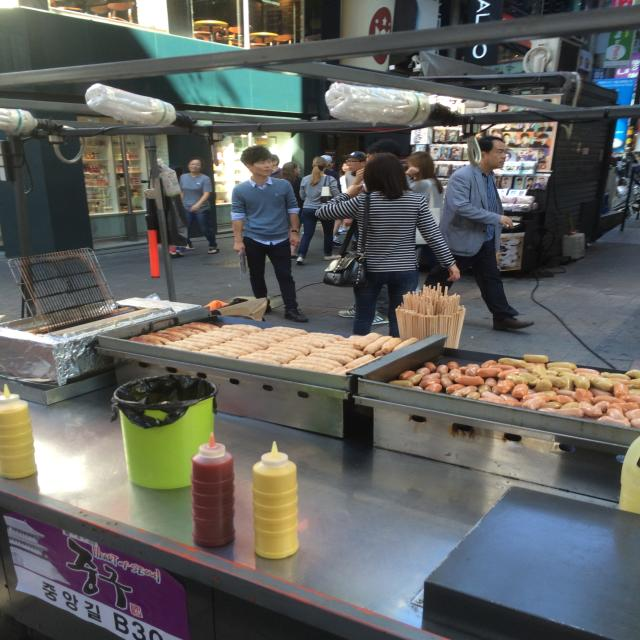body: (312, 151, 463, 340), (418, 135, 536, 332), (229, 144, 310, 323), (338, 138, 401, 326), (402, 150, 446, 272), (294, 156, 342, 266), (177, 157, 220, 255), (274, 162, 306, 260), (319, 154, 343, 248), (344, 150, 371, 199), (342, 150, 368, 192), (432, 128, 500, 144), (500, 112, 554, 132), (503, 147, 555, 163), (500, 131, 551, 147), (502, 98, 556, 113), (494, 162, 550, 174), (428, 146, 470, 162), (495, 177, 545, 190), (164, 238, 197, 254), (335, 161, 349, 195), (268, 154, 282, 177)
